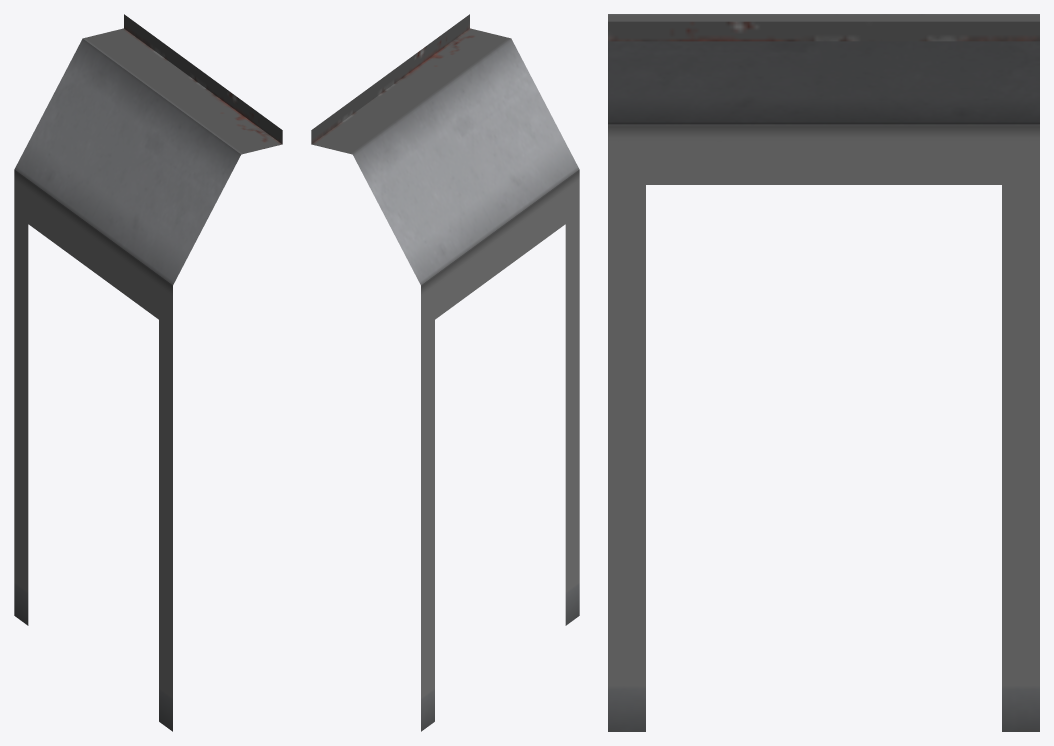
The model's file is VR_DoorWall_2x.fbx.
The picture shows the model from 3 angles, left to right: view 1: azimuth 30°, elevation 25°; view 2: azimuth 150°, elevation 25°; view 3: azimuth 270°, elevation 25°; orthographic projection. The views are drawn at different scales.
Parts seen in each view (by area): view 1: DoorFrame_2x; view 2: DoorFrame_2x; view 3: DoorFrame_2x.
Boxes of the visible parts, x1,y1,x2,y2 form: DoorFrame_2x: [14, 14, 282, 731]; DoorFrame_2x: [311, 14, 579, 731]; DoorFrame_2x: [608, 14, 1039, 731].
Size of the model in its own units: 0.7965 by 4 by 2.
